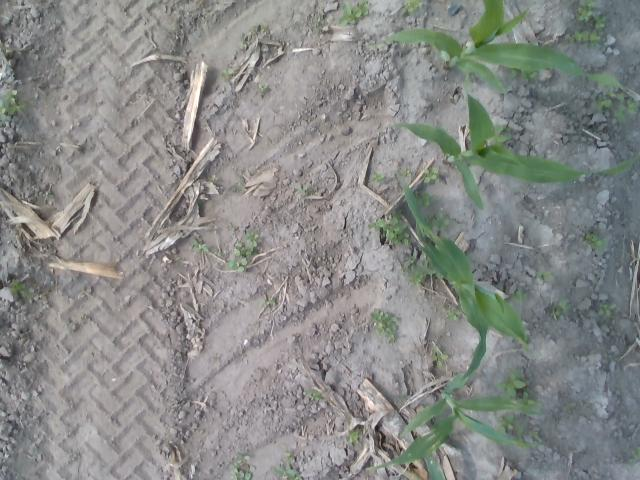Maize: (388, 72, 640, 210), (395, 170, 529, 382), (366, 0, 626, 95), (366, 370, 536, 472), (420, 453, 445, 480)
Weeds: (592, 88, 640, 125), (368, 208, 412, 247), (226, 231, 258, 272), (370, 307, 400, 344), (404, 254, 436, 287), (494, 366, 526, 398), (0, 88, 27, 122), (496, 412, 524, 441), (339, 0, 369, 25), (229, 453, 256, 480), (568, 30, 601, 48), (582, 231, 607, 253), (574, 0, 598, 22), (423, 211, 449, 231), (508, 66, 536, 84), (10, 278, 32, 299), (550, 296, 570, 319), (412, 188, 436, 207), (274, 464, 302, 480), (520, 390, 542, 408), (440, 305, 462, 322), (589, 12, 607, 32), (190, 236, 210, 254), (431, 347, 448, 368), (402, 0, 424, 15), (423, 166, 440, 184), (597, 302, 617, 317), (536, 269, 556, 282), (348, 427, 364, 443), (511, 289, 528, 303), (305, 389, 324, 400), (260, 296, 276, 308), (371, 171, 385, 183), (220, 68, 234, 80), (248, 24, 268, 32), (230, 181, 243, 192), (296, 185, 308, 194), (402, 167, 412, 177), (284, 450, 294, 460), (312, 16, 322, 26), (528, 428, 538, 437), (236, 40, 246, 49), (258, 82, 269, 90), (562, 403, 574, 410), (436, 271, 444, 280), (172, 255, 182, 262), (633, 446, 640, 456), (211, 174, 218, 181), (45, 192, 53, 198)
